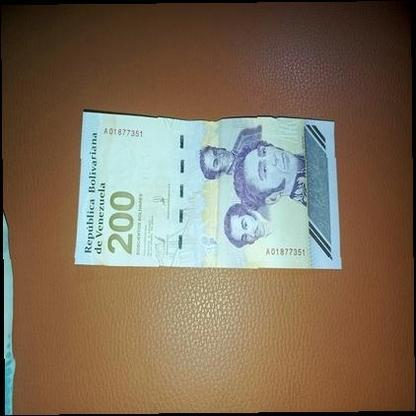two_hundred-front-vef: (74, 111, 342, 269)
